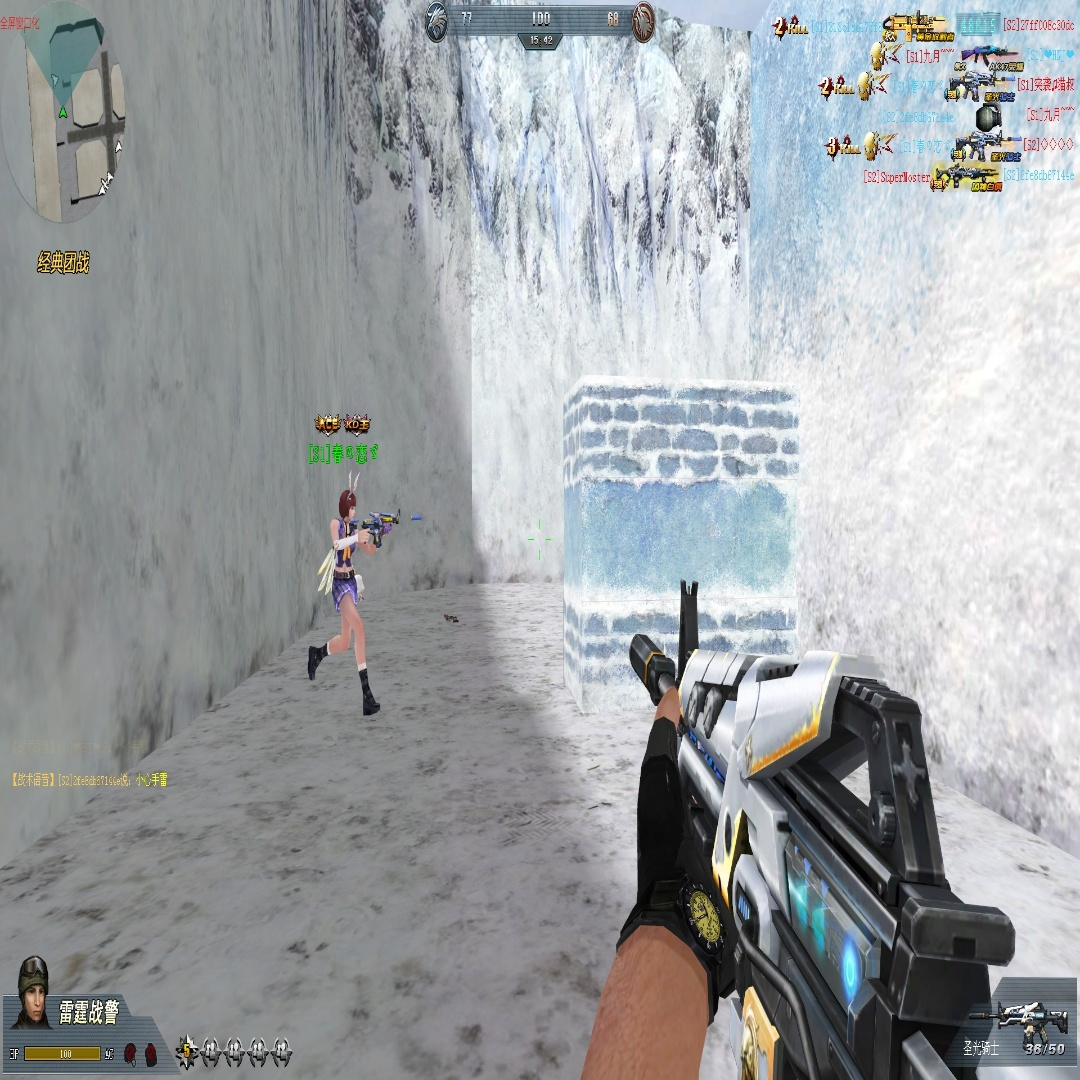t: (307, 487, 386, 716)
